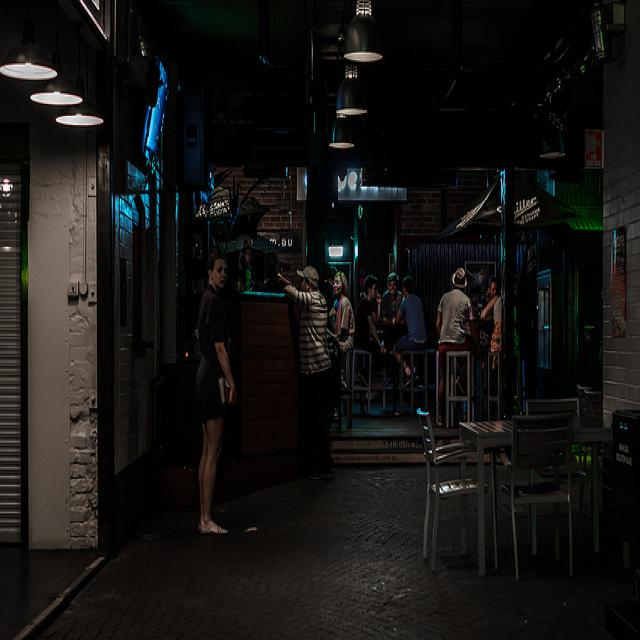People: (280, 255, 342, 485), (195, 252, 243, 544), (437, 256, 473, 408), (395, 271, 425, 396), (326, 259, 350, 410), (353, 261, 381, 379), (481, 270, 500, 319), (386, 265, 402, 323)
Table: (460, 388, 622, 602)
chair: (499, 404, 582, 589), (406, 403, 487, 582), (444, 339, 477, 433), (347, 336, 383, 413), (520, 385, 587, 423), (397, 343, 433, 412)
